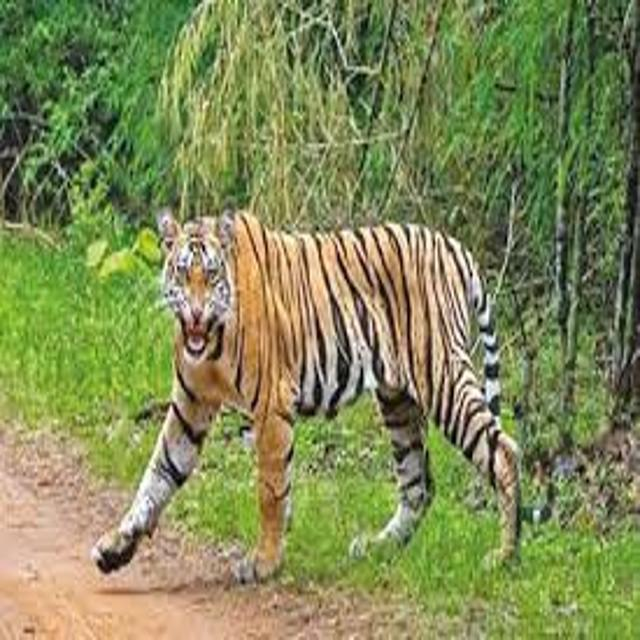Tiger: (96, 163, 540, 593)
